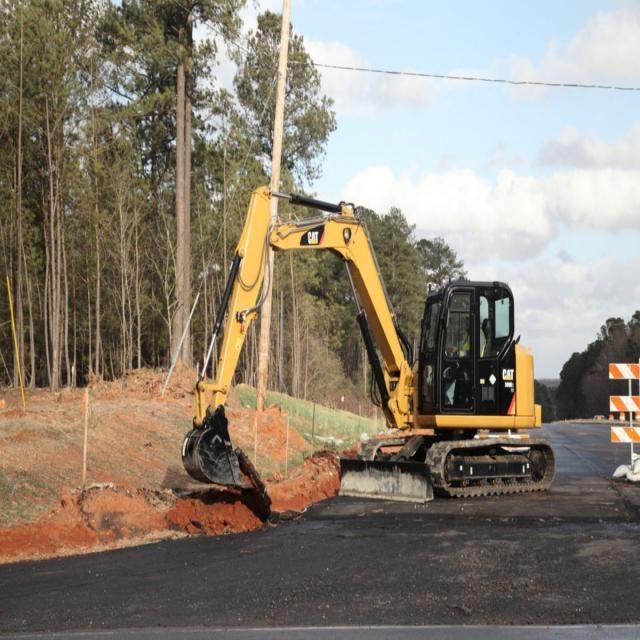excavator: (183, 191, 529, 480)
